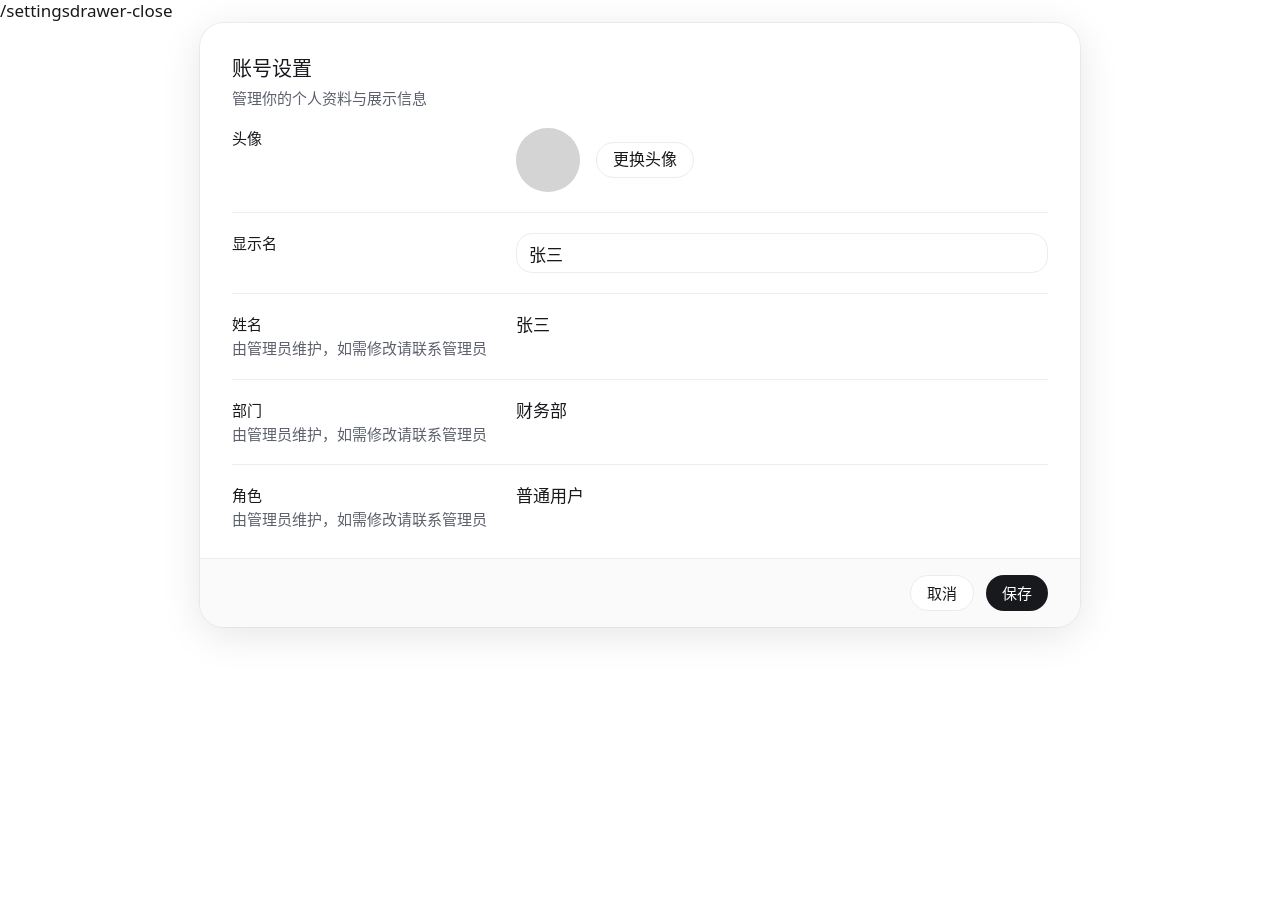
Test: ProfileModule 关闭拦截与头像（A39） › 显示名有未保存更改时按 Esc 弹「放弃未保存的更改」确认；取消保留修改
Replace the text in the field labelled "显示名" with "未保存名字" at (782, 253), box 516,233 -> 1048,273
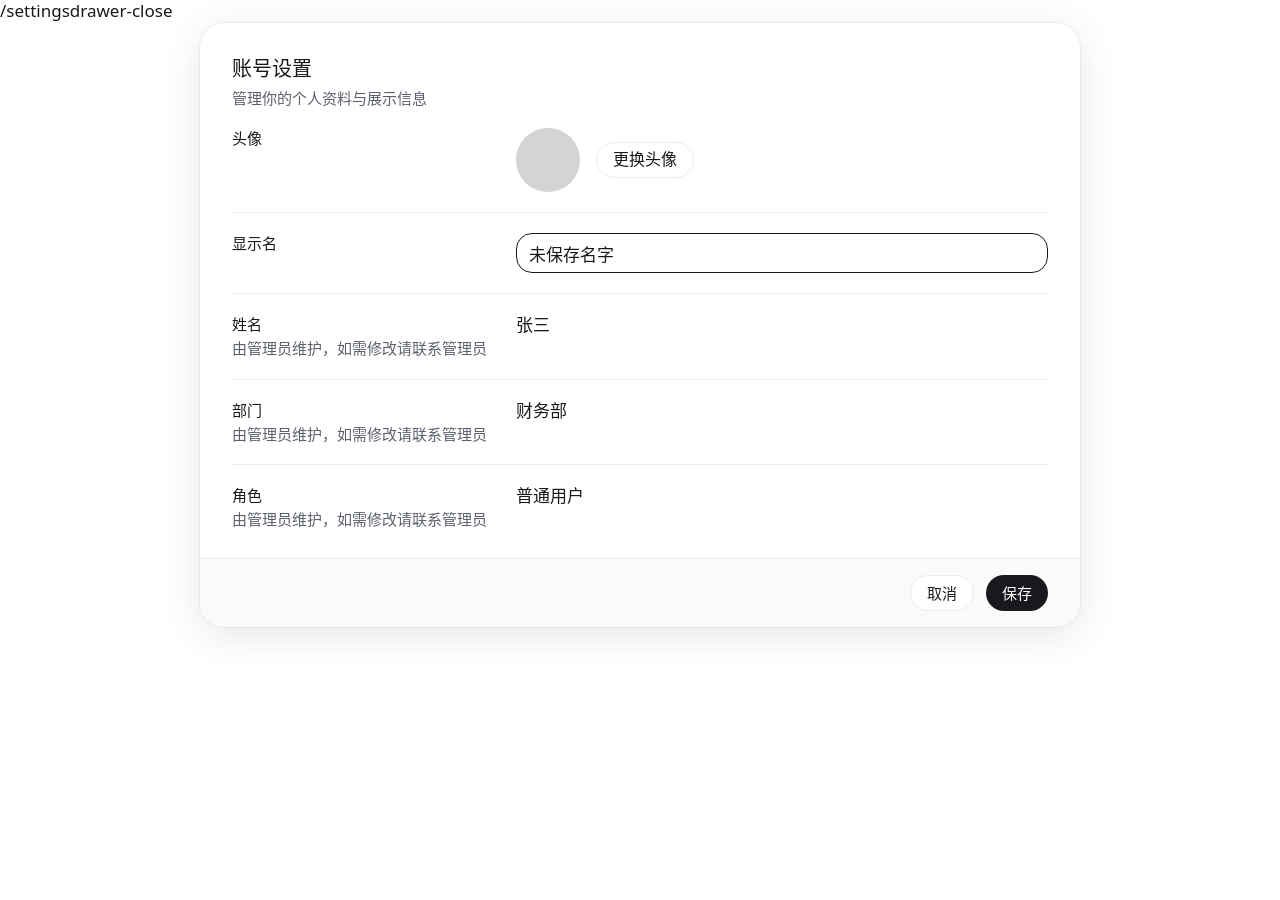
Press Escape
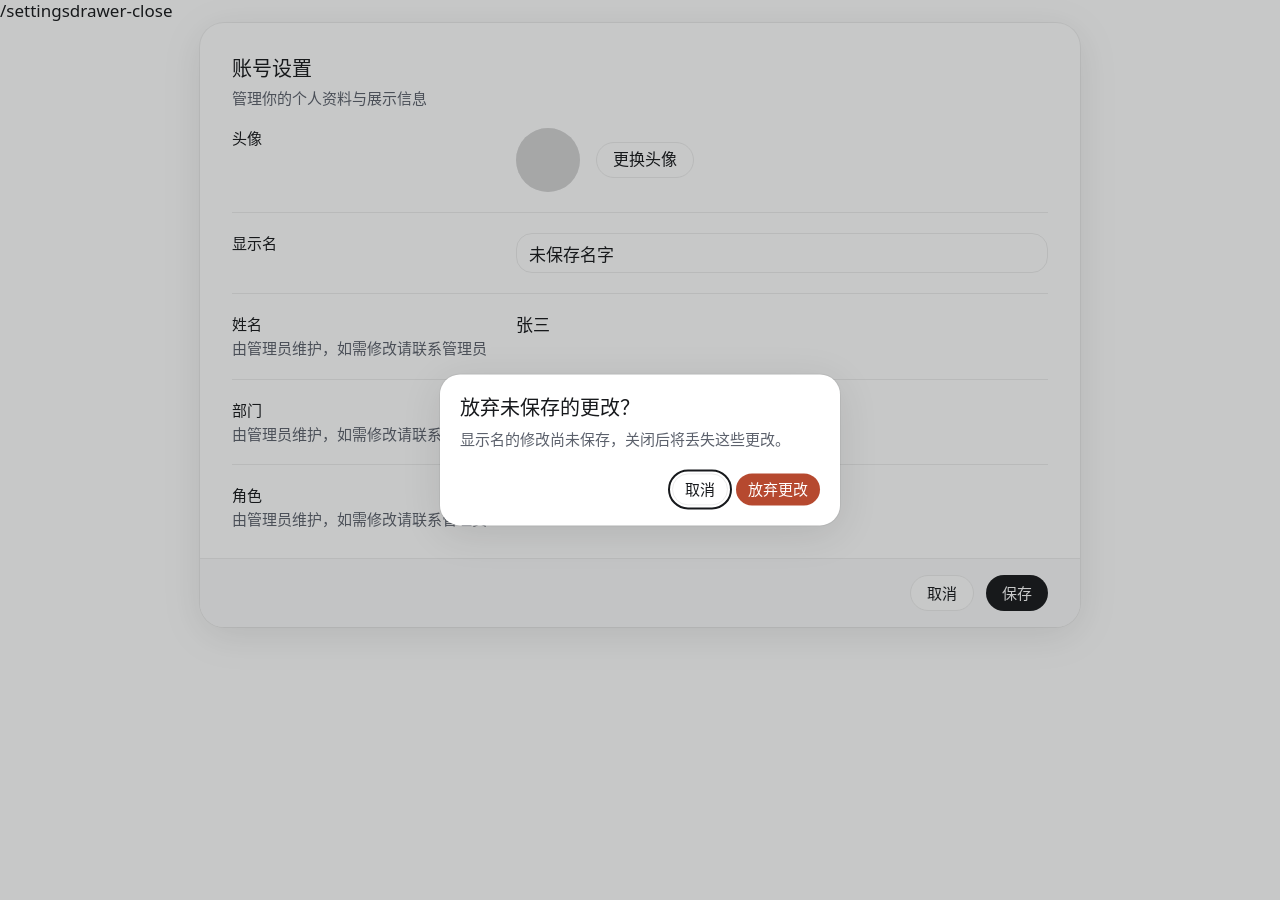
Now the dialog "放弃未保存的更改？" shows "显示名的修改尚未保存，关闭后将丢失这些更改。", box 460,429 -> 790,449
# 取消：留在模块，修改保留
Click the button "取消" at (700, 490), box 672,474 -> 728,506
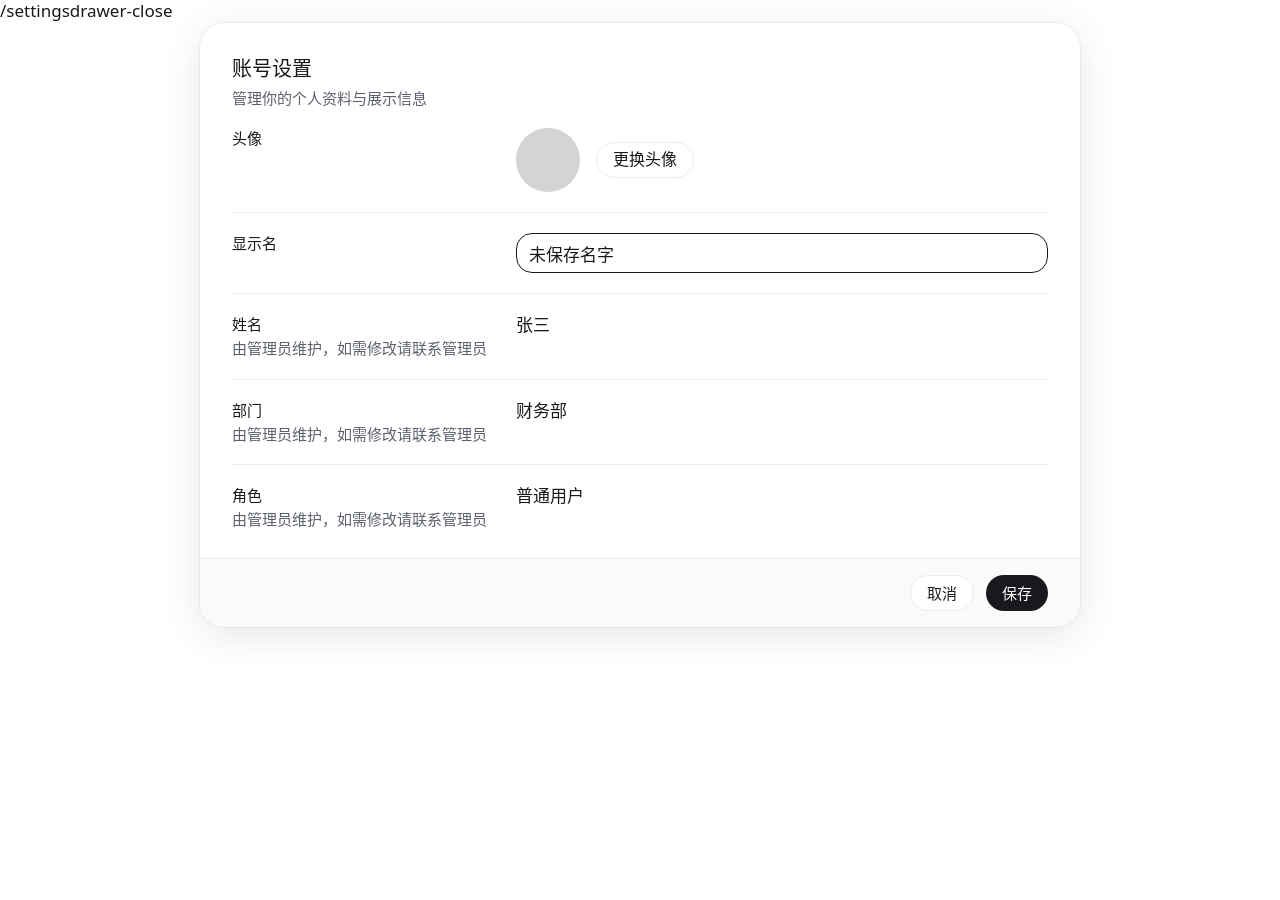
Now the dialog is gone
